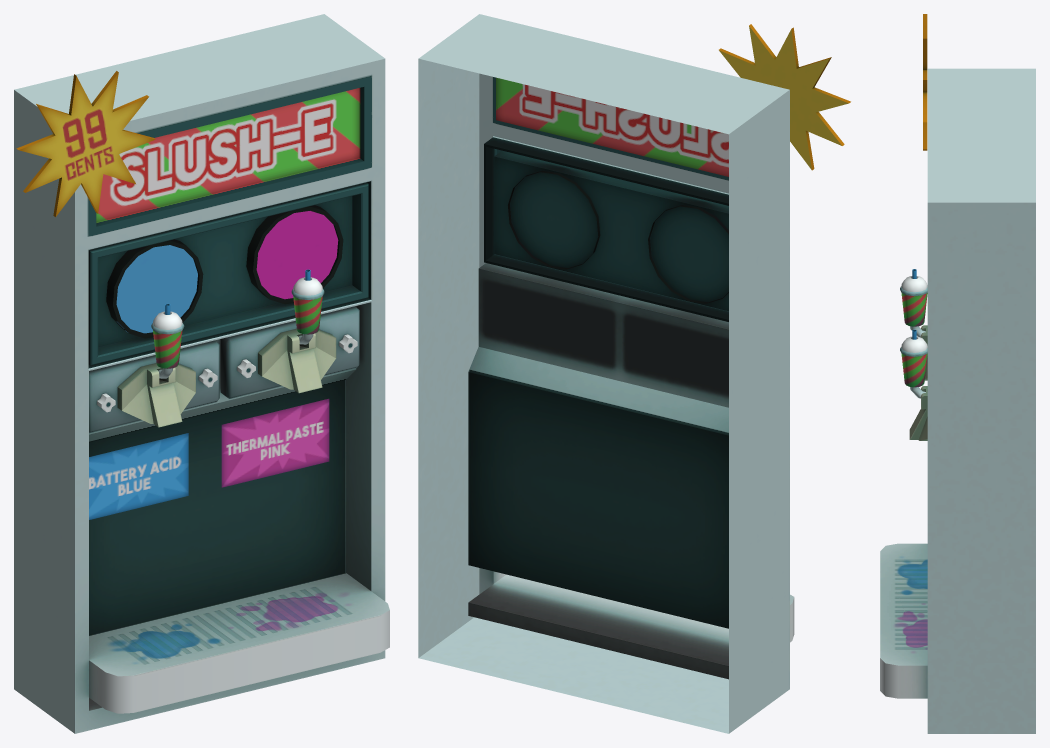
The model's file is job_simulator_-_slush-e_machine.glb.
The picture shows the model from 3 angles, left to right: view 1: azimuth 30°, elevation 25°; view 2: azimuth 150°, elevation 25°; view 3: azimuth 270°, elevation 25°; orthographic projection. The views are drawn at different scales.
Visible parts, largest first — view 1: Object_2; view 2: Object_2; view 3: Object_2.
Part boxes in pixels (<box>): Object_2: <box>14,14,389,733</box>; Object_2: <box>418,14,850,733</box>; Object_2: <box>880,14,1035,733</box>.
Bounding box in the file's own units: 15.67 × 26.77 × 6.45.
1 material, 1 textured.
